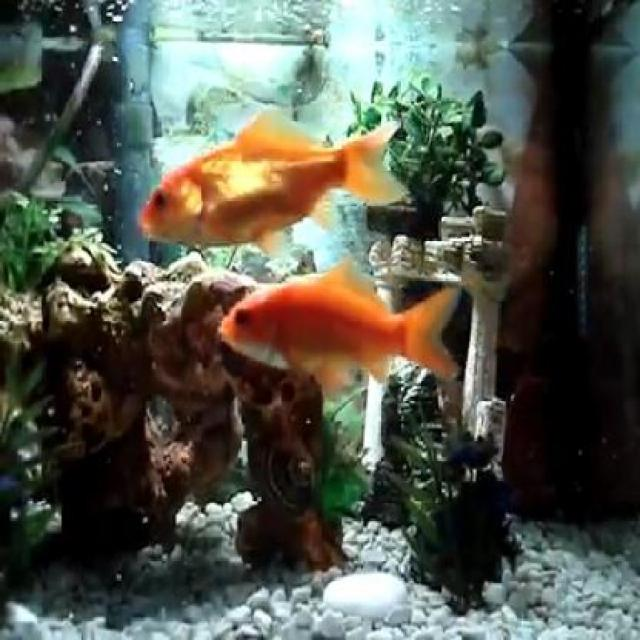GoldFish: (138, 108, 407, 244), (216, 260, 462, 392)
